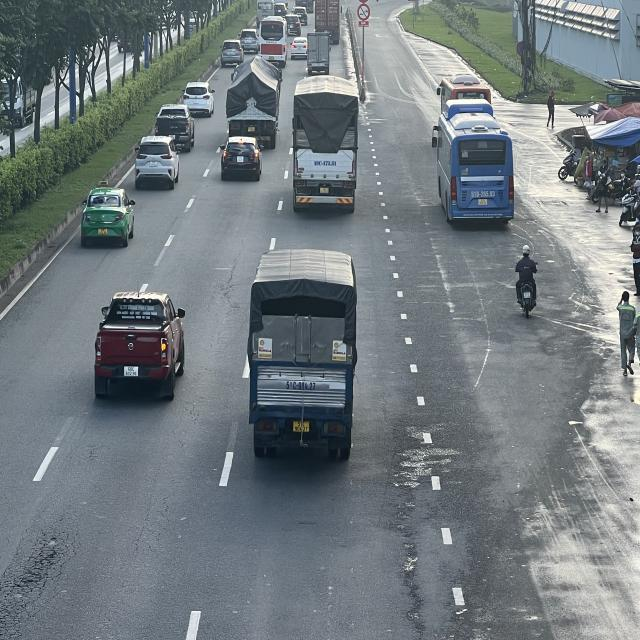car: (95, 293, 188, 402), (83, 188, 138, 248), (133, 134, 180, 185), (217, 135, 262, 180), (182, 82, 215, 117), (219, 38, 242, 64), (240, 28, 260, 54), (290, 37, 308, 59)
coach: (433, 100, 515, 228), (260, 16, 288, 65)
container: (226, 55, 283, 143), (317, 1, 344, 42)
truck: (244, 247, 356, 461), (294, 76, 362, 214), (305, 33, 330, 76)
